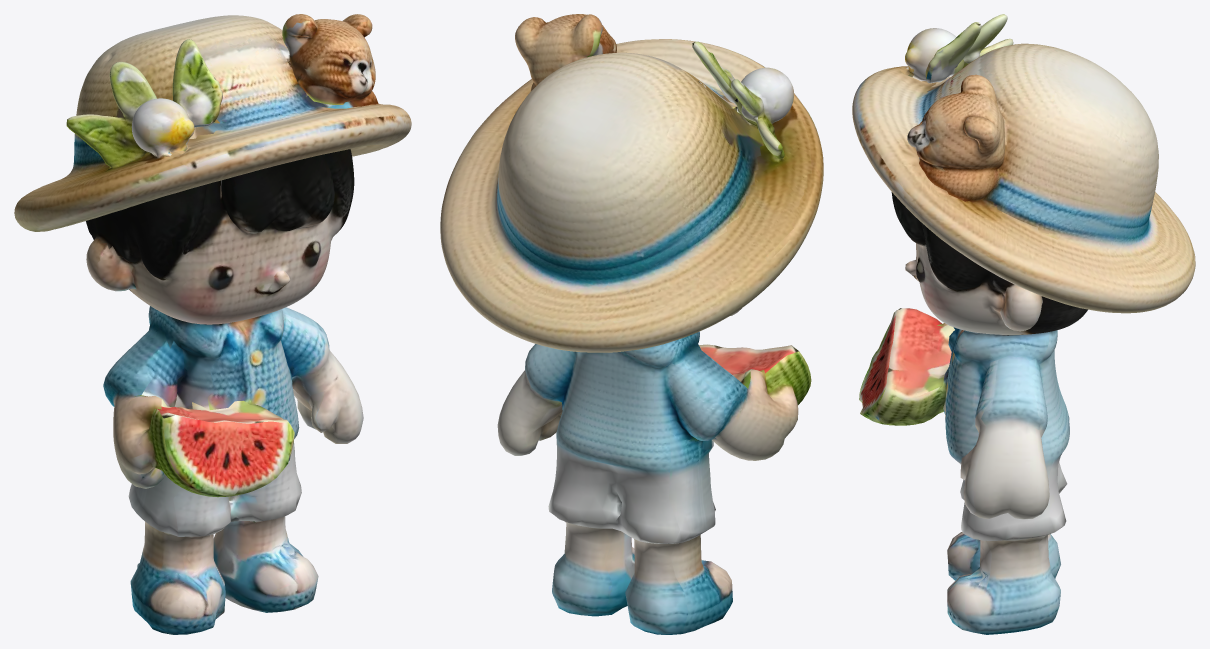
File: vksccp6p.glb
3 views of the same model, side by side, from view 1: azimuth 30°, elevation 25°; view 2: azimuth 150°, elevation 25°; view 3: azimuth 270°, elevation 25° (orthographic). The views are drawn at different scales.
Visible parts, largest first — view 1: Crochet Doll; view 2: Crochet Doll; view 3: Crochet Doll.
Boxes of the visible parts, bbox=[...] form: Crochet Doll: bbox=[14, 14, 411, 634]; Crochet Doll: bbox=[440, 14, 823, 634]; Crochet Doll: bbox=[852, 14, 1195, 634].
Bounding box in the file's own units: 0.1565 × 0.25 × 0.1395.
Materials: 1 (1 with a texture image).
